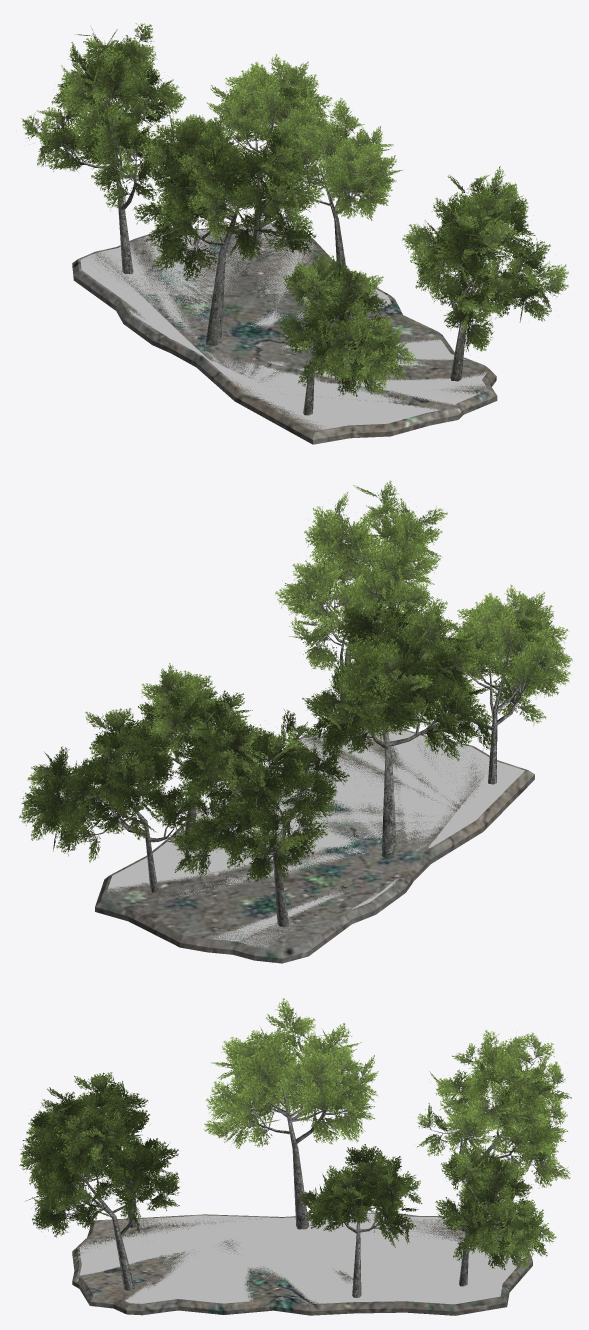
The model's file is cf_t_forest.obj.
3 views of the same model, one above another, from view 1: azimuth 30°, elevation 25°; view 2: azimuth 150°, elevation 25°; view 3: azimuth 270°, elevation 25° (orthographic). The views are drawn at different scales.
Parts seen in each view (by area): view 1: t3.001; view 2: t3.001; view 3: t3.001.
Boxes of the visible parts, left/top/right/bottom form: t3.001: left=21, top=23, right=568, bottom=444; t3.001: left=19, top=480, right=572, bottom=963; t3.001: left=19, top=998, right=571, bottom=1315.
Bounding box in the file's own units: 14.36 × 10.72 × 24.21.
2 materials, 2 textured.
